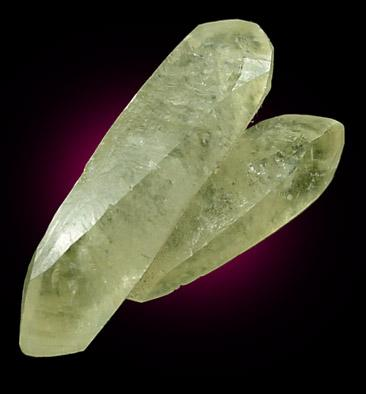calcite: (20, 20, 345, 356)
